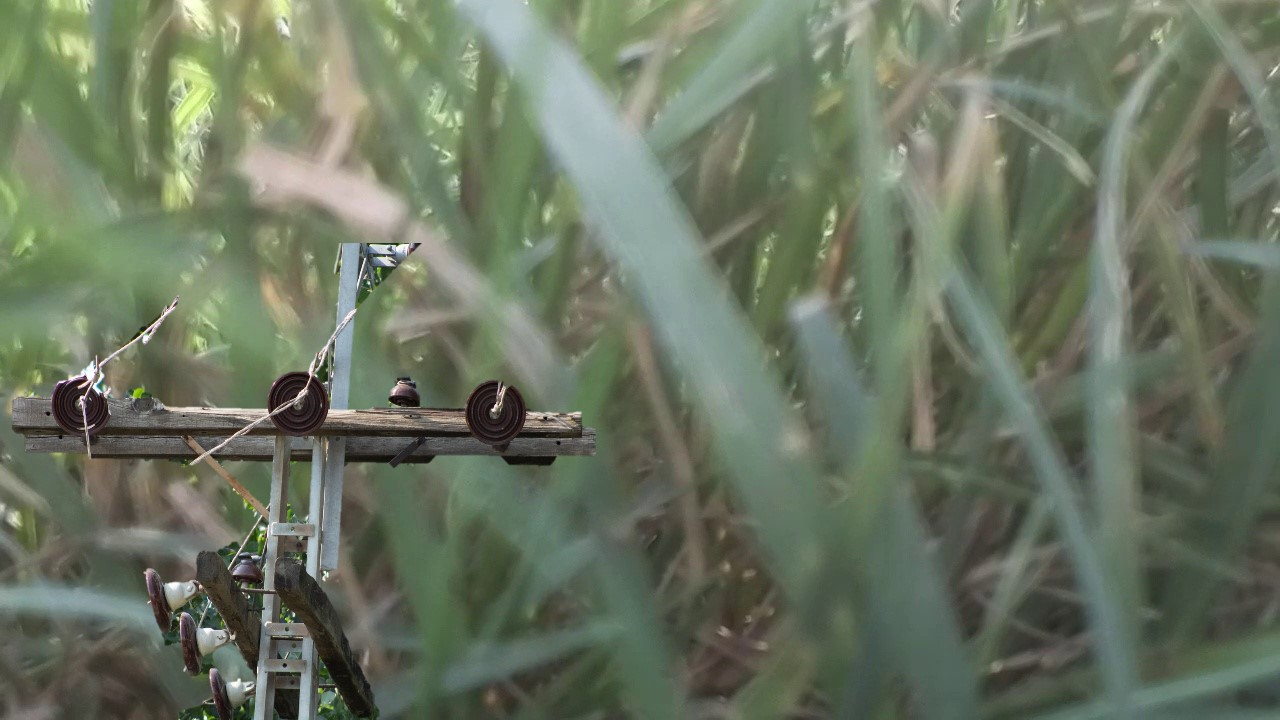defect_disc: (47, 372, 115, 442)
insulator_disc: (462, 374, 532, 456), (263, 364, 332, 441), (140, 559, 183, 637), (172, 601, 210, 683), (203, 660, 250, 704)
insulator_pin: (383, 370, 426, 412), (228, 547, 266, 592)
